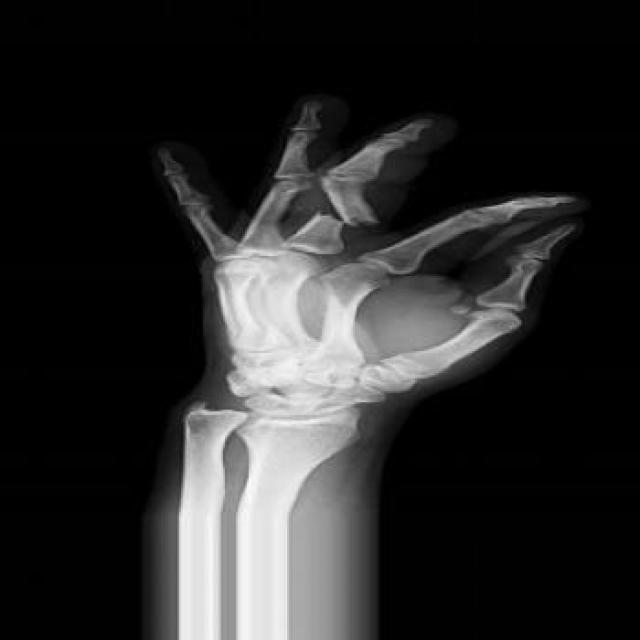Fracture: (303, 206, 394, 231)
